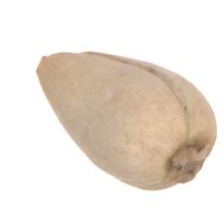L1: (167, 141, 208, 185), (35, 51, 65, 72)
L2: (34, 50, 218, 192)
